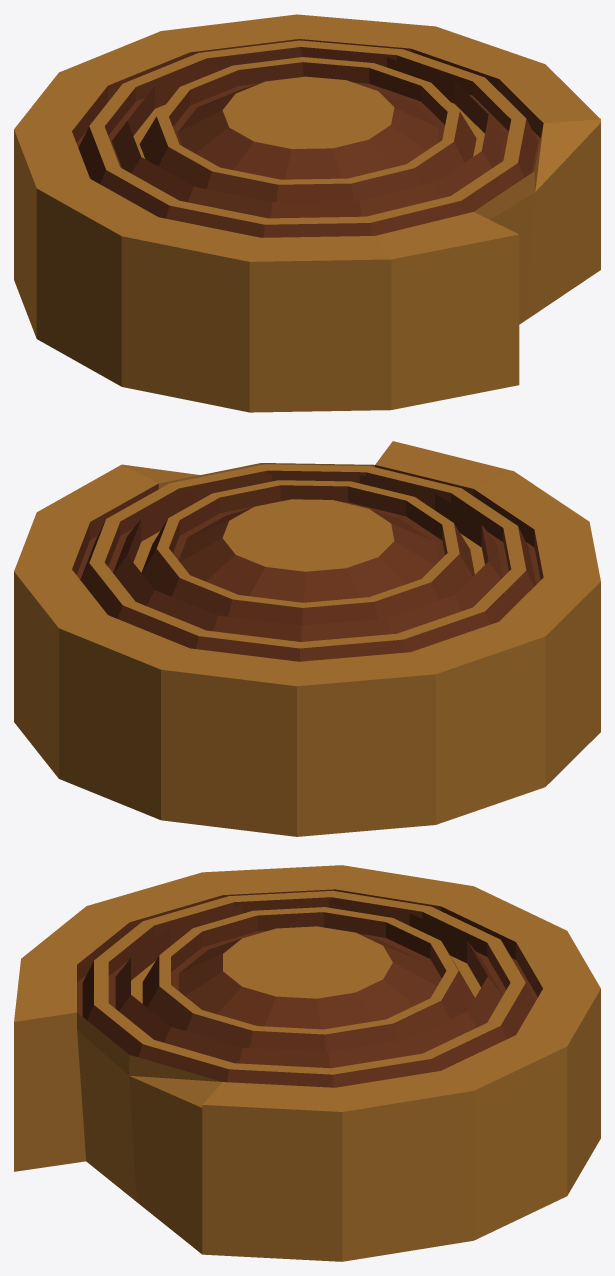
The model's file is ocvirkovca.fbx.
3 renders of one model, top to bottom at view 1: azimuth 30°, elevation 25°; view 2: azimuth 150°, elevation 25°; view 3: azimuth 270°, elevation 25°, orthographic.
Parts seen in each view (by area): view 1: Cylinder; view 2: Cylinder; view 3: Cylinder.
Boxes of the visible parts, left/top/right/bottom form: Cylinder: left=14, top=14, right=600, bottom=412; Cylinder: left=14, top=441, right=600, bottom=836; Cylinder: left=14, top=865, right=600, bottom=1261.
Size of the model in its own units: 199 by 66.99 by 199.
